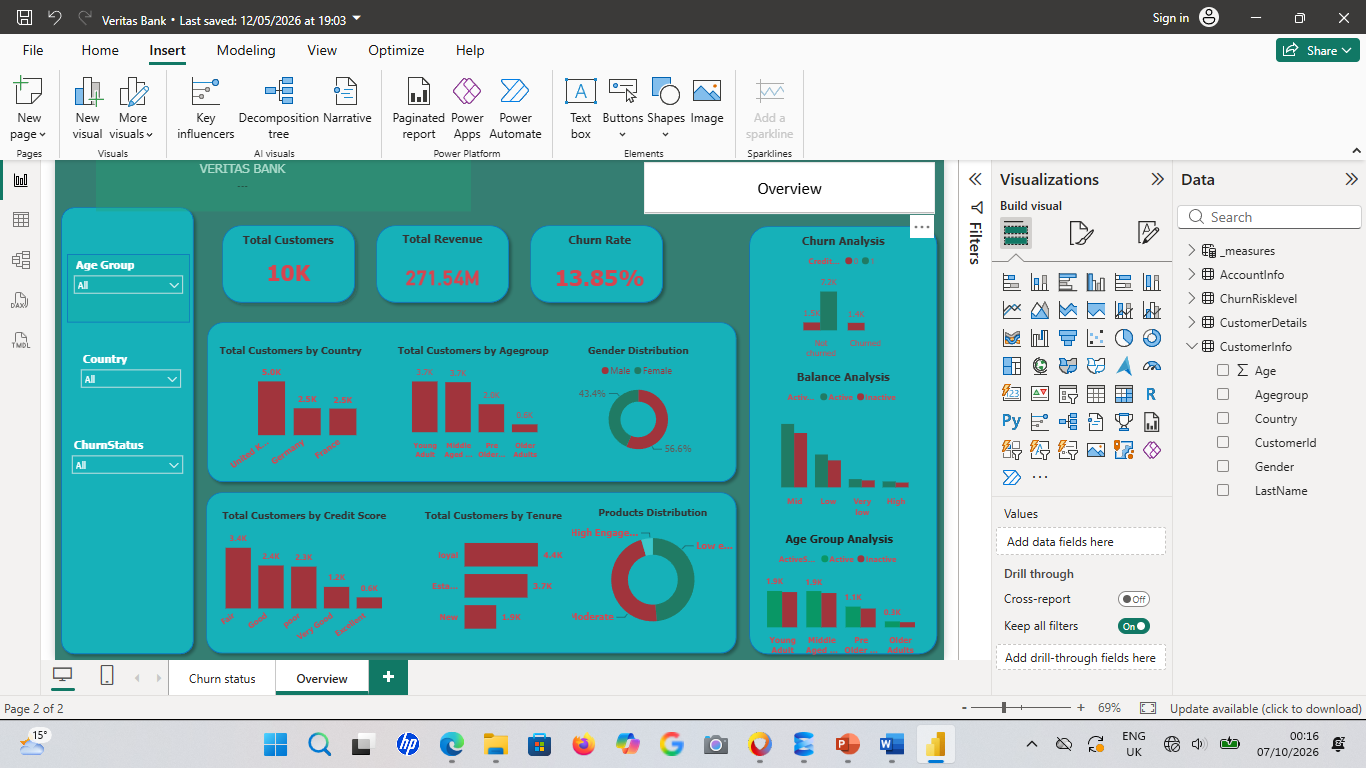

This screenshot's page, from the dashboard's own definition file:
{"tool":"powerbi","page":{"name":"Overview","canvas":[1280,720],"ordinal":1},"visuals":[{"type":"shape","box":[231.2,85.3,209.2,129.4],"z":0},{"type":"shape","box":[453.5,85.3,209.2,129.4],"z":1000},{"type":"shape","box":[675.8,85.3,209.2,129.4],"z":2000},{"type":"shape","box":[210.6,224.3,780,248],"z":3000},{"type":"shape","box":[208.6,470,781.4,250],"z":4000},{"type":"shape","box":[991.4,85.7,288.6,634.3],"z":5000},{"type":"shape","box":[0,58.6,208.6,661.4],"z":6000},{"type":"card","title":"Total Customers","fields":{"Values":["_measures.Total customers"]},"box":[253.2,104.6,165.2,96.3],"z":7000},{"type":"card","title":"Total Revenue","fields":{"Values":["Sum(AccountInfo.Balance)"]},"box":[454.3,104.3,208.6,110],"z":8000},{"type":"card","title":"Churn Rate","fields":{"Values":["_measures.Churn rate"]},"box":[684,104.6,200.9,110.1],"z":9000},{"type":"clusteredColumnChart","title":"Total Customers by Country","fields":{"Category":["CustomerInfo.Country"],"Y":["_measures.Total customers"]},"box":[231.2,265.6,229.8,191.3],"z":10000},{"type":"clusteredColumnChart","title":"Total Customers by Agegroup","fields":{"Category":["CustomerInfo.Agegroup"],"Y":["_measures.Total customers"]},"box":[484.5,265.6,236.7,172],"z":11000},{"type":"donutChart","title":"Gender Distribution","fields":{"Category":["CustomerInfo.Gender"],"Y":["_measures.Total customers"]},"box":[740.5,265.6,199.6,170.7],"z":12000},{"type":"clusteredColumnChart","title":"Total Customers by Credit Score","fields":{"Category":["AccountInfo.CreditScorecat"],"Y":["_measures.Total customers"]},"box":[221.4,502.9,274.3,207.1],"z":13000},{"type":"donutChart","title":"Products Distribution","fields":{"Category":["AccountInfo.ProductsCat"],"Y":["_measures.Total customers"]},"box":[744.3,498.6,232.9,194.3],"z":14000},{"type":"clusteredBarChart","title":"Total Customers by Tenure","fields":{"Category":["ChurnRisklevel.TenureCat"],"Y":["_measures.Total customers"]},"box":[522.9,502.9,217.1,197.1],"z":15000},{"type":"clusteredColumnChart","title":"Churn Analysis","fields":{"Category":["AccountInfo.ChurnStatus"],"Series":["AccountInfo.CreditCard"],"Y":["CountNonNull(AccountInfo.CreditCard)"]},"box":[1015.7,107.1,240,185.7],"z":16000},{"type":"clusteredColumnChart","title":"Balance Analysis","fields":{"Category":["CustomerDetails.BalanceCat"],"Series":["AccountInfo.ActiveStatus"],"Y":["Sum(AccountInfo.Balance)"]},"box":[1015.7,302.9,240,220],"z":17000},{"type":"clusteredColumnChart","title":"Age Group Analysis","fields":{"Category":["CustomerInfo.Agegroup"],"Series":["ChurnRisklevel.ActiveStatus"],"Y":["_measures.Total customers"]},"box":[991.4,535.7,277.1,184.3],"z":18000},{"type":"shape","box":[17.1,135.7,177.1,98.6],"z":19000},{"type":"slicer","fields":{"Values":["CustomerInfo.Agegroup"]},"box":[17.1,135.7,177.1,98.6],"z":20000},{"type":"slicer","fields":{"Values":["CustomerInfo.Country"]},"box":[27.1,271.4,164.3,150],"z":21000},{"type":"slicer","fields":{"Values":["ChurnRisklevel.ChurnStatus"]},"box":[14.3,394.3,180,112.9],"z":22000},{"type":"textbox","title":"VERITAS BANK","box":[0,0,540,64.3],"z":23000},{"type":"shape","box":[59,0,540,74.3],"z":24000},{"type":"pageNavigator","box":[879.8,40.3,400.3,34.6],"z":25000},{"type":"textbox","box":[109.4,0,290.9,57.6],"z":26000},{"type":"pageNavigator","box":[848.2,2.9,419,74.9],"z":27000}]}

Visuals, with their boxes on the page's 1280x720 design canvas (x1, y1, x2, y2). These are canvas units, not pixel positions in the 1366x768 screenshot, which may show the page scaled, cropped or inside an application window:
shape: bbox=[231, 85, 440, 215]
shape: bbox=[454, 85, 663, 215]
shape: bbox=[676, 85, 885, 215]
shape: bbox=[211, 224, 991, 472]
shape: bbox=[209, 470, 990, 720]
shape: bbox=[991, 86, 1280, 720]
shape: bbox=[0, 59, 209, 720]
"Total Customers" card: bbox=[253, 105, 418, 201]
"Total Revenue" card: bbox=[454, 104, 663, 214]
"Churn Rate" card: bbox=[684, 105, 885, 215]
"Total Customers by Country" clusteredColumnChart: bbox=[231, 266, 461, 457]
"Total Customers by Agegroup" clusteredColumnChart: bbox=[484, 266, 721, 438]
"Gender Distribution" donutChart: bbox=[740, 266, 940, 436]
"Total Customers by Credit Score" clusteredColumnChart: bbox=[221, 503, 496, 710]
"Products Distribution" donutChart: bbox=[744, 499, 977, 693]
"Total Customers by Tenure" clusteredBarChart: bbox=[523, 503, 740, 700]
"Churn Analysis" clusteredColumnChart: bbox=[1016, 107, 1256, 293]
"Balance Analysis" clusteredColumnChart: bbox=[1016, 303, 1256, 523]
"Age Group Analysis" clusteredColumnChart: bbox=[991, 536, 1268, 720]
shape: bbox=[17, 136, 194, 234]
slicer - CustomerInfo.Agegroup: bbox=[17, 136, 194, 234]
slicer - CustomerInfo.Country: bbox=[27, 271, 191, 421]
slicer - ChurnRisklevel.ChurnStatus: bbox=[14, 394, 194, 507]
"VERITAS BANK" textbox: bbox=[0, 0, 540, 64]
shape: bbox=[59, 0, 599, 74]
pageNavigator: bbox=[880, 40, 1280, 75]
textbox: bbox=[109, 0, 400, 58]
pageNavigator: bbox=[848, 3, 1267, 78]
